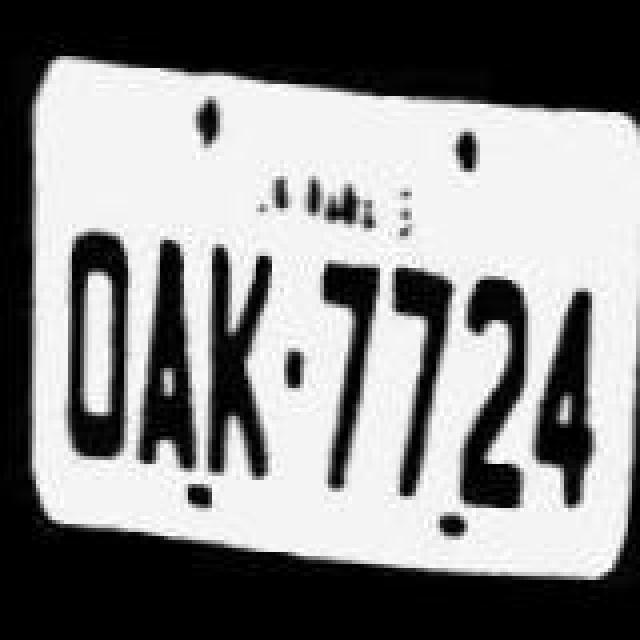2: (446, 254, 534, 518)
4: (522, 280, 610, 520)
7: (376, 256, 460, 520), (306, 250, 386, 510)
A: (124, 212, 208, 480)
K: (196, 218, 280, 482)
O: (44, 210, 140, 478)
